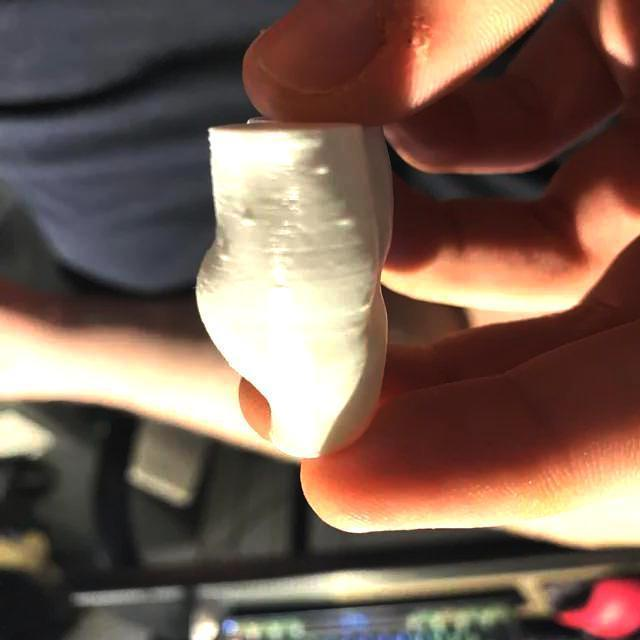zits: (334, 210, 356, 236), (306, 159, 332, 181), (238, 212, 262, 230), (272, 282, 290, 301), (214, 249, 234, 266), (352, 300, 372, 316)
